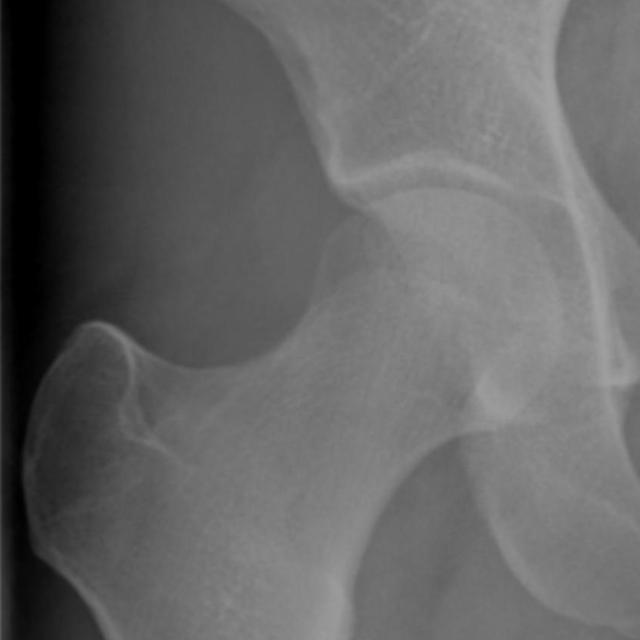Fitted_femural_head: (257, 189, 432, 257)
